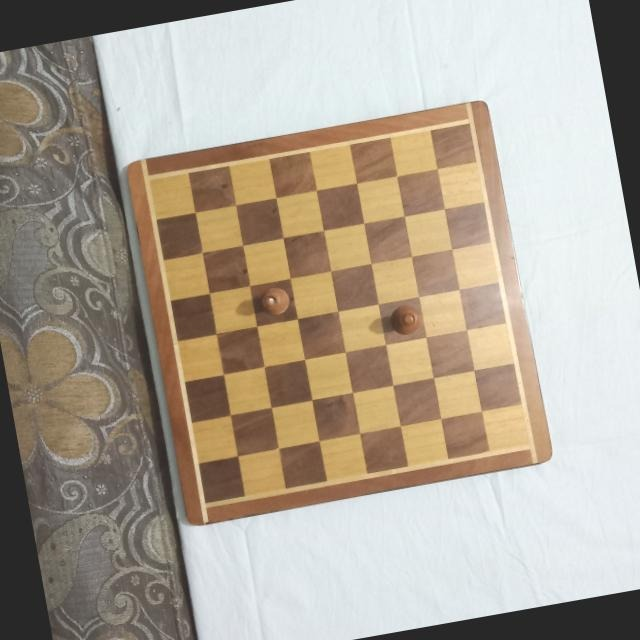white-bishop: (385, 302, 422, 339), (256, 286, 292, 320)
